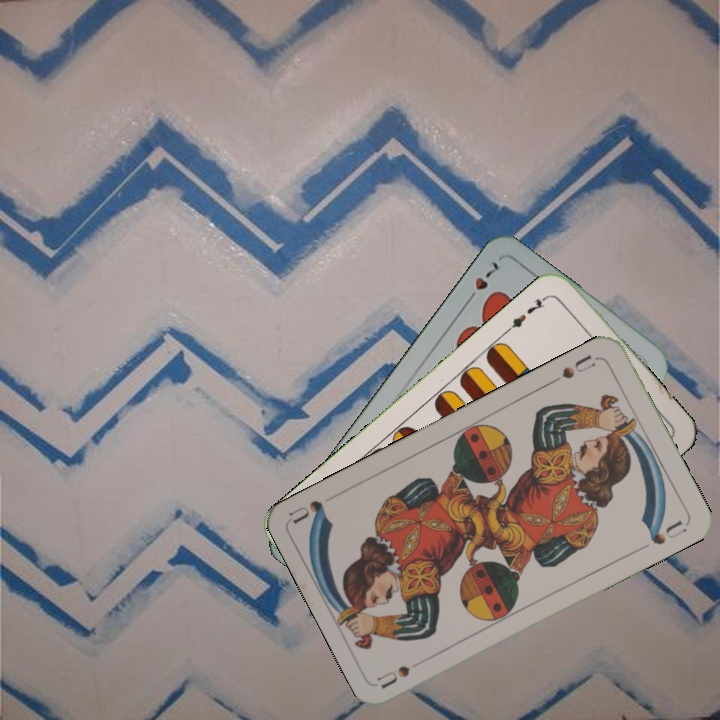E7: (503, 291, 552, 334)
H7: (461, 257, 501, 307)
SU: (546, 351, 601, 387), (374, 661, 413, 691)
